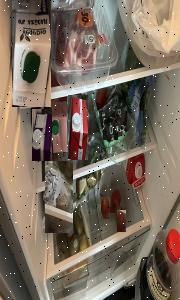Aguacate: (103, 118, 118, 140), (115, 106, 127, 131)
Leche: (12, 0, 51, 107), (68, 95, 88, 160), (32, 109, 52, 161)
Lechuga/Endivia: (124, 39, 151, 151)
Pan de sandwich: (45, 161, 73, 233)
Tomate: (110, 189, 121, 213), (101, 197, 110, 219), (117, 210, 126, 232)
